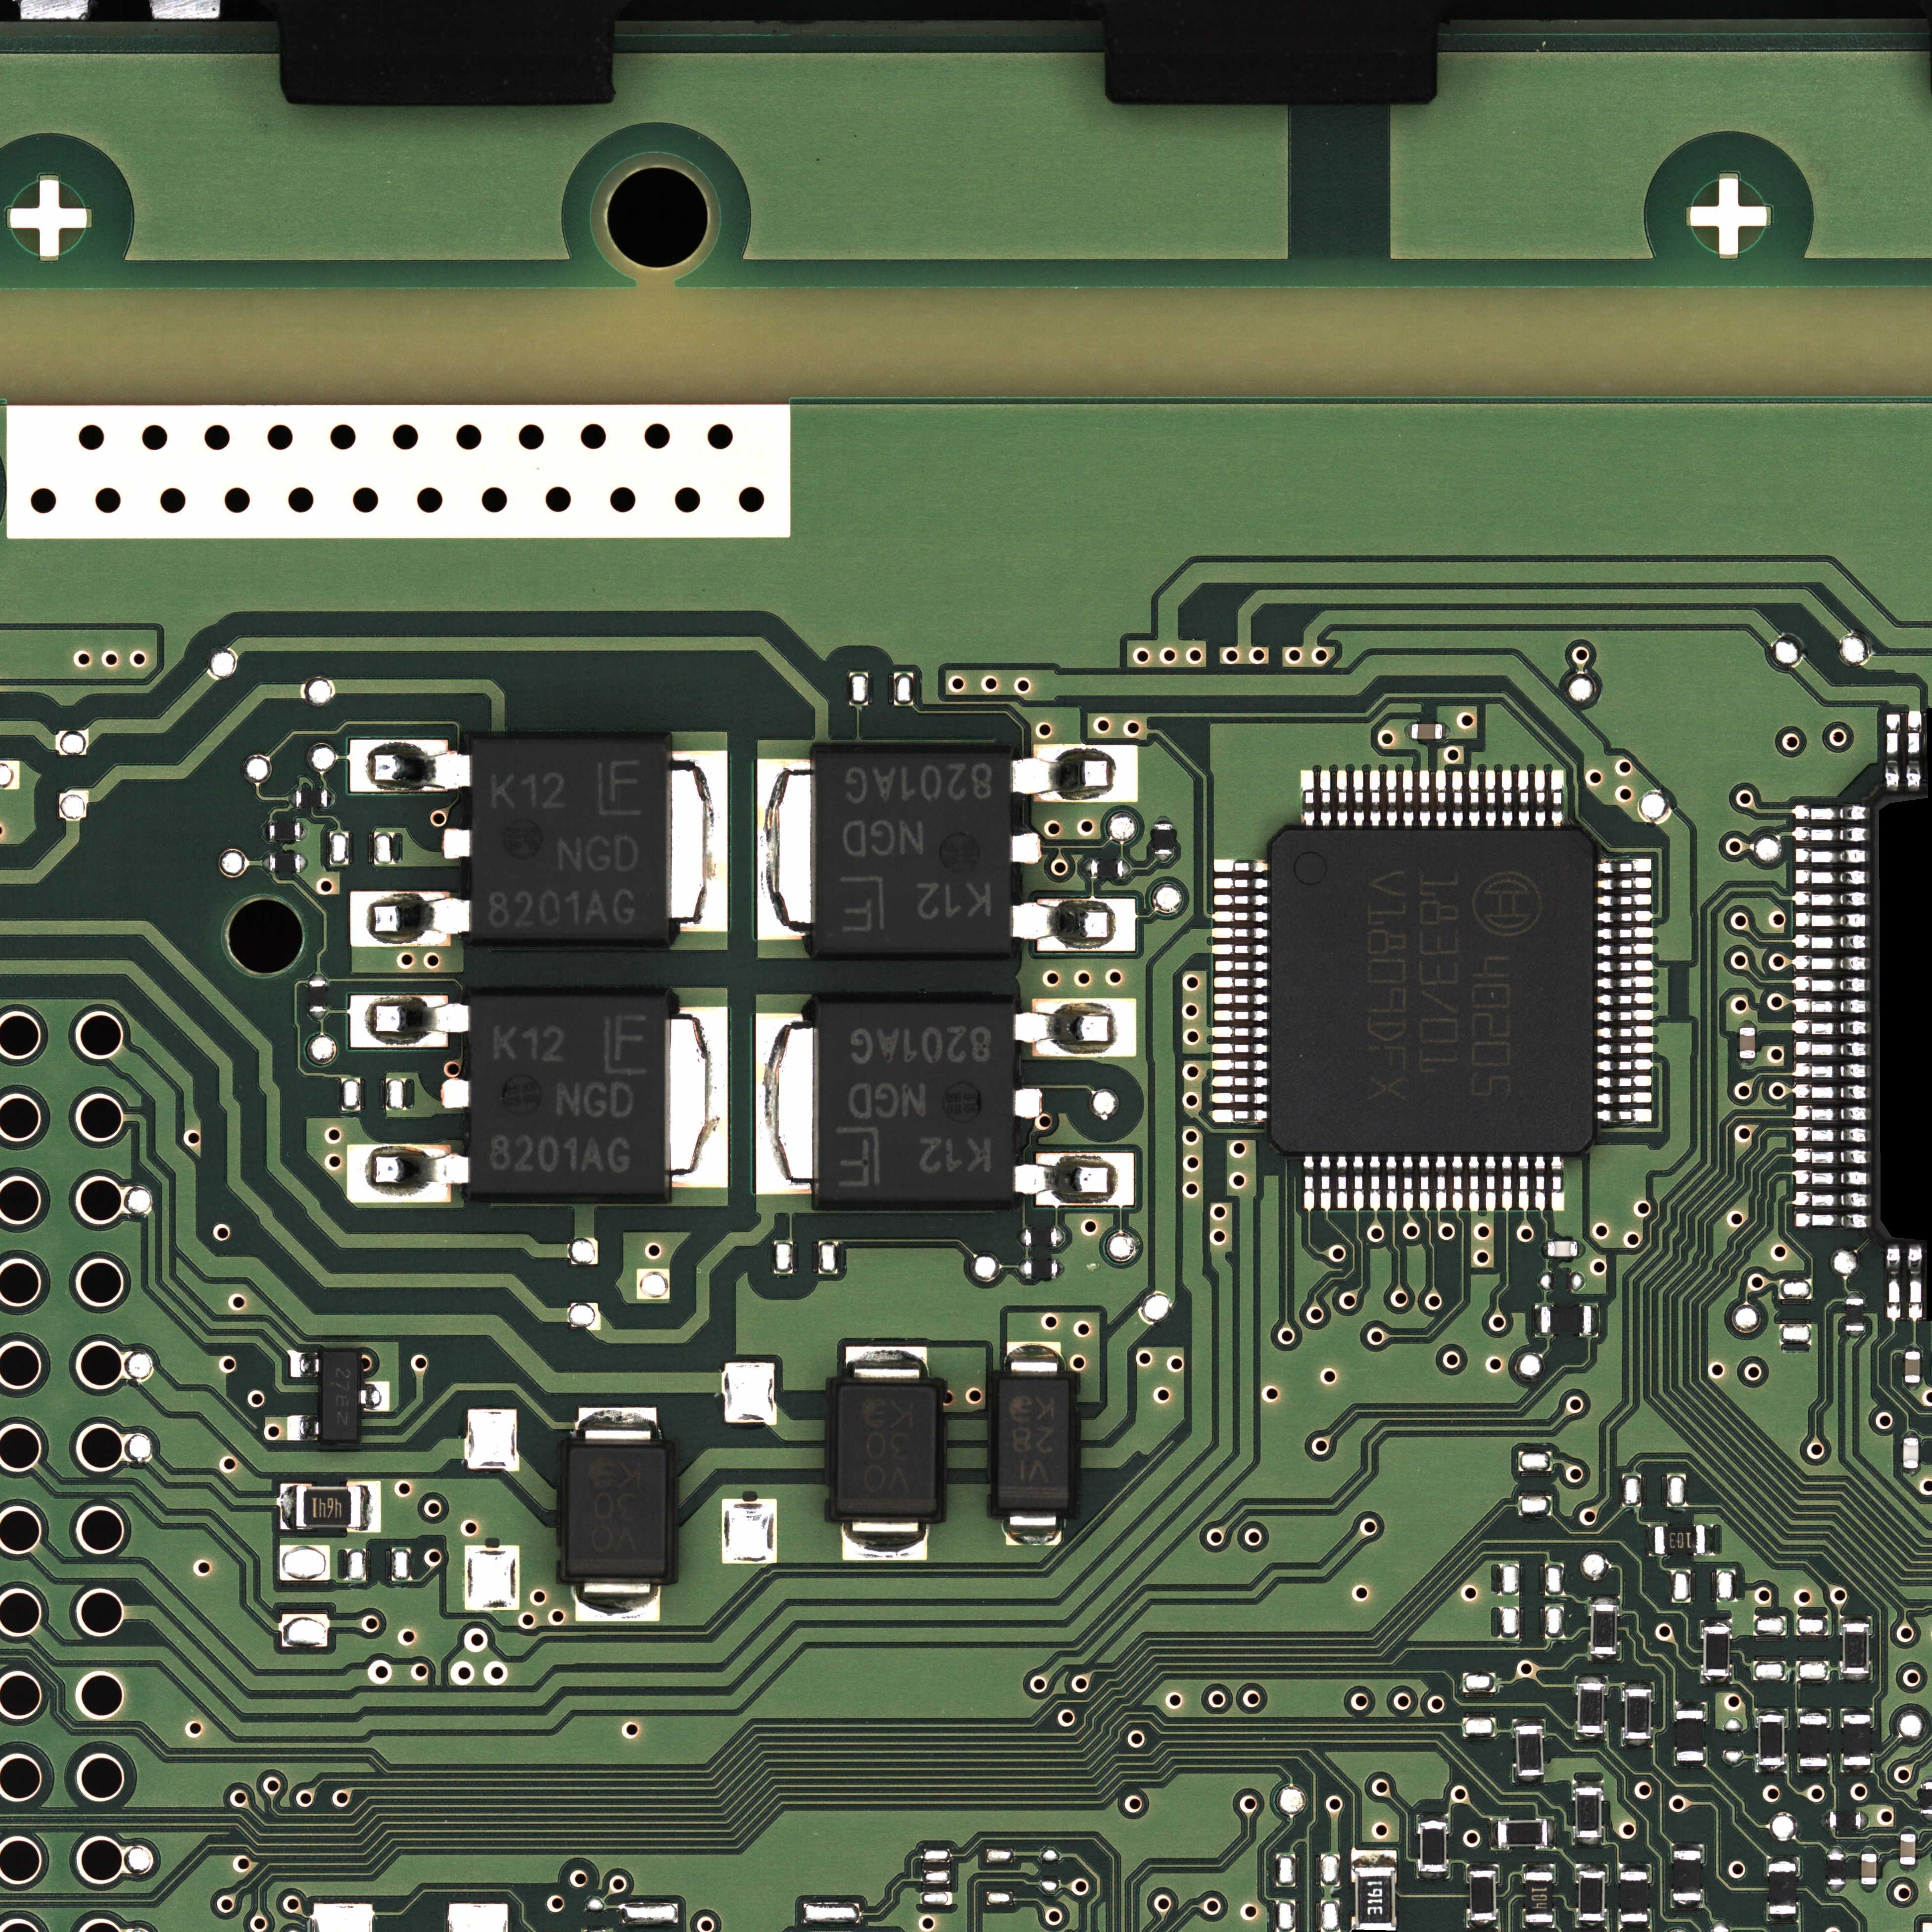Package: (1269, 828, 1593, 1154), (815, 753, 1011, 953), (819, 1003, 1013, 1202), (470, 996, 664, 1195), (472, 743, 667, 940), (567, 1446, 667, 1576), (837, 1386, 937, 1514), (998, 1379, 1069, 1509), (321, 1349, 360, 1443), (296, 1487, 361, 1527), (1355, 1868, 1393, 1931), (1799, 1716, 1828, 1766), (1541, 1306, 1591, 1334), (1769, 1863, 1796, 1914), (1676, 1711, 1704, 1760), (1620, 1872, 1648, 1922), (1525, 1872, 1553, 1922), (1655, 1526, 1705, 1553), (1673, 1850, 1701, 1900), (1843, 1715, 1871, 1765), (1704, 1626, 1730, 1676), (1420, 1822, 1446, 1872), (1497, 1821, 1547, 1846), (1470, 1871, 1496, 1920), (1843, 1624, 1869, 1673), (1517, 1726, 1543, 1776), (1576, 1788, 1601, 1837), (1625, 1690, 1650, 1739), (1758, 1715, 1784, 1765), (1592, 1605, 1617, 1654), (1579, 1871, 1604, 1920), (1578, 1684, 1603, 1733), (1846, 1298, 1864, 1331), (309, 980, 328, 1013), (1091, 860, 1123, 878), (1154, 824, 1173, 855), (1024, 1228, 1057, 1246), (1025, 1260, 1057, 1278), (296, 789, 328, 807), (269, 854, 300, 871), (269, 823, 301, 840), (1829, 1812, 1860, 1829), (1828, 1854, 1844, 1885), (1739, 1027, 1755, 1059), (1411, 724, 1442, 739), (1900, 1834, 1916, 1865), (1905, 1352, 1920, 1383), (1861, 1854, 1877, 1885), (1903, 1438, 1919, 1468), (1547, 1241, 1577, 1256)
Solder: (664, 1007, 728, 1187), (755, 1012, 818, 1195), (667, 750, 728, 933), (757, 758, 815, 941), (1012, 743, 1139, 804), (1014, 997, 1137, 1059), (347, 1144, 468, 1203), (350, 891, 471, 948), (1013, 898, 1135, 953), (1014, 1152, 1134, 1207), (350, 739, 470, 793), (350, 994, 468, 1048), (842, 1515, 927, 1561), (575, 1577, 661, 1622), (846, 1346, 928, 1385), (578, 1407, 657, 1446), (1006, 1509, 1062, 1546), (1007, 1342, 1062, 1378), (1886, 713, 1901, 793), (1907, 712, 1922, 790), (1907, 1245, 1923, 1320), (1886, 1245, 1901, 1320), (1796, 1193, 1872, 1207), (1795, 1149, 1871, 1163), (1795, 1106, 1871, 1120), (1792, 934, 1869, 949), (1792, 977, 1869, 992), (1791, 805, 1868, 820), (1793, 848, 1869, 863), (1797, 1214, 1873, 1228), (1796, 1170, 1872, 1185), (1794, 1063, 1870, 1077), (1795, 1084, 1871, 1099), (1796, 1127, 1872, 1142), (1793, 956, 1869, 970), (1793, 999, 1869, 1013), (1794, 869, 1870, 884), (1792, 826, 1869, 840), (1791, 891, 1867, 905), (1792, 913, 1868, 926), (1794, 1021, 1870, 1035), (1794, 1042, 1870, 1056), (1011, 831, 1041, 864), (1013, 1088, 1042, 1119), (362, 1482, 381, 1532), (360, 1381, 389, 1412), (442, 828, 471, 859), (440, 1078, 469, 1109), (287, 1415, 320, 1441), (1352, 1848, 1396, 1867), (290, 1352, 320, 1378), (1301, 770, 1314, 827), (1213, 859, 1269, 872), (1211, 1109, 1267, 1122), (1596, 1109, 1652, 1122), (1597, 859, 1652, 872), (1551, 1156, 1564, 1212), (1551, 770, 1564, 827), (1596, 1026, 1653, 1039), (280, 1484, 295, 1530), (1596, 927, 1653, 939), (1596, 993, 1653, 1006), (1596, 1043, 1653, 1055), (1597, 976, 1653, 989), (1597, 960, 1653, 972), (1211, 1026, 1269, 1038), (1596, 894, 1652, 906), (1596, 1010, 1654, 1022), (1596, 1092, 1651, 1105), (1211, 1092, 1268, 1104), (1211, 1076, 1268, 1088), (1596, 944, 1653, 956), (1518, 769, 1530, 828), (1212, 927, 1268, 939), (1212, 911, 1268, 922), (1212, 944, 1268, 956), (1596, 877, 1652, 889), (1596, 911, 1652, 922), (1596, 1060, 1652, 1071), (1402, 770, 1414, 827), (1535, 770, 1546, 827), (1468, 770, 1480, 827), (1435, 770, 1447, 827), (1213, 877, 1268, 889), (1596, 1076, 1652, 1088), (1320, 770, 1331, 827), (1419, 770, 1430, 827), (1211, 1060, 1268, 1071), (1211, 1043, 1268, 1055), (1213, 1010, 1268, 1022), (1214, 993, 1268, 1005), (1213, 894, 1269, 906), (1214, 960, 1268, 972), (1353, 770, 1364, 827), (1485, 770, 1496, 827), (1501, 770, 1512, 827), (1214, 977, 1269, 988), (1452, 1156, 1463, 1211), (1337, 770, 1348, 827), (1386, 770, 1397, 827), (1452, 770, 1463, 827), (1369, 770, 1380, 827), (1435, 1157, 1447, 1211), (1535, 1156, 1546, 1211), (1518, 1156, 1529, 1211), (1304, 1156, 1314, 1211), (1485, 1156, 1496, 1211), (1469, 1156, 1480, 1211), (1320, 1156, 1331, 1210), (1353, 1156, 1364, 1210), (1402, 1156, 1413, 1211), (1386, 1156, 1397, 1211), (1419, 1156, 1430, 1211), (1369, 1156, 1380, 1211), (1501, 1156, 1512, 1211), (1336, 1156, 1347, 1209), (1589, 1595, 1619, 1605), (1675, 1701, 1705, 1711), (1799, 1706, 1829, 1716), (1489, 1818, 1498, 1849), (1524, 1862, 1553, 1872), (1576, 1862, 1606, 1872), (1619, 1862, 1649, 1872), (1468, 1920, 1497, 1929), (1672, 1842, 1703, 1851), (1767, 1914, 1799, 1922), (1842, 1706, 1872, 1715), (1646, 1524, 1655, 1555), (1767, 1855, 1798, 1863), (1756, 1707, 1786, 1716), (1418, 1813, 1448, 1821), (1573, 1780, 1603, 1788), (1620, 1922, 1649, 1930), (1701, 1676, 1731, 1684), (1574, 1837, 1603, 1845), (1576, 1676, 1606, 1684), (1623, 1739, 1653, 1747), (1672, 1901, 1703, 1908), (1513, 1718, 1544, 1726), (1467, 1863, 1498, 1871), (1841, 1615, 1870, 1623), (1705, 1525, 1712, 1555), (1546, 1818, 1553, 1848), (1577, 1921, 1605, 1929), (1701, 1620, 1731, 1627), (1592, 1306, 1599, 1334), (1623, 1682, 1652, 1690), (1514, 1776, 1544, 1783), (1590, 1654, 1619, 1661), (1418, 1872, 1447, 1879), (1841, 1673, 1870, 1681), (1576, 1733, 1604, 1740), (1757, 1765, 1785, 1772), (1524, 1922, 1554, 1929), (1842, 1765, 1872, 1772), (1799, 1766, 1829, 1773), (1676, 1761, 1705, 1767), (1535, 1306, 1541, 1334), (1827, 1884, 1845, 1893), (1017, 1229, 1025, 1246), (1154, 817, 1173, 824), (1861, 1884, 1877, 1893), (1577, 1241, 1586, 1256), (1058, 1228, 1065, 1247), (1443, 723, 1450, 740), (1155, 855, 1173, 862), (1057, 1260, 1065, 1277), (1903, 1468, 1919, 1476), (1828, 1846, 1844, 1854), (301, 855, 308, 872), (1739, 1059, 1756, 1066), (1822, 1812, 1830, 1828), (1861, 1812, 1869, 1828), (1739, 1020, 1756, 1028), (328, 789, 335, 807), (301, 822, 308, 840), (263, 854, 270, 872), (1846, 1331, 1864, 1338), (310, 973, 326, 980), (1900, 1865, 1916, 1872), (262, 823, 269, 841), (1900, 1827, 1916, 1835), (1123, 861, 1130, 878), (309, 1013, 326, 1019), (1846, 1292, 1864, 1299), (1903, 1431, 1919, 1438), (1861, 1847, 1877, 1854), (1904, 1383, 1921, 1390), (1540, 1241, 1547, 1256), (1405, 723, 1411, 739), (1019, 1261, 1025, 1278), (290, 790, 296, 808), (1905, 1346, 1920, 1352), (1085, 861, 1091, 876)
